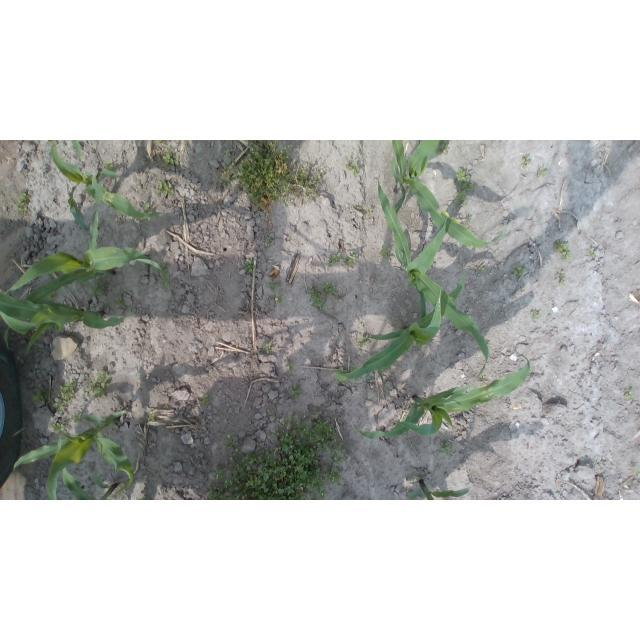Maize: (3, 210, 176, 350), (377, 172, 490, 379), (332, 263, 468, 382), (352, 355, 531, 441), (390, 140, 515, 249), (12, 406, 136, 500), (50, 140, 165, 236), (0, 287, 132, 354), (61, 466, 123, 500), (408, 476, 471, 500), (70, 141, 86, 160)
Weeds: (208, 408, 350, 500), (223, 140, 326, 214), (50, 380, 80, 433), (306, 282, 339, 311), (456, 166, 474, 206), (88, 370, 111, 397), (160, 148, 181, 169), (329, 251, 358, 266), (555, 238, 572, 260), (17, 189, 32, 212), (155, 180, 173, 197), (269, 282, 283, 302), (354, 205, 375, 218), (435, 141, 452, 156), (381, 246, 395, 262), (344, 162, 362, 174), (290, 384, 305, 398), (91, 281, 106, 295), (357, 335, 371, 349), (243, 259, 256, 273), (440, 441, 453, 454), (340, 365, 356, 375), (33, 394, 46, 406), (557, 271, 567, 286), (116, 297, 127, 310), (104, 162, 117, 173), (522, 155, 531, 170), (514, 265, 525, 277), (531, 310, 542, 322), (144, 203, 155, 214), (624, 391, 635, 401), (285, 361, 295, 371), (262, 344, 272, 354), (537, 167, 547, 177), (48, 291, 57, 301), (478, 263, 486, 273), (201, 395, 209, 405), (147, 413, 155, 423), (632, 465, 639, 475), (462, 216, 471, 223), (413, 476, 421, 483), (479, 374, 486, 382), (154, 140, 163, 146), (590, 249, 596, 257), (268, 237, 273, 246)
